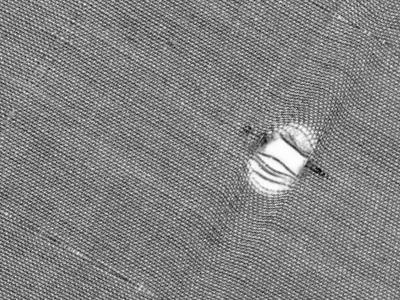hole: (239, 117, 325, 199)
